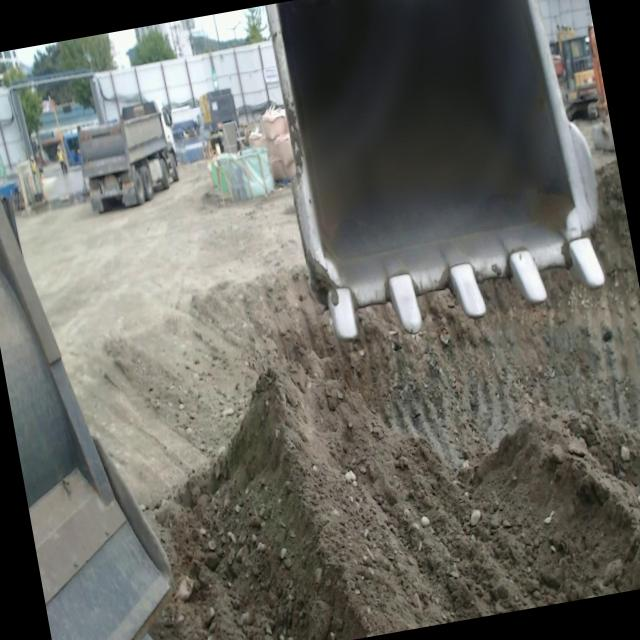red-sand: (153, 161, 640, 640)
white-sand: (17, 161, 304, 508)
